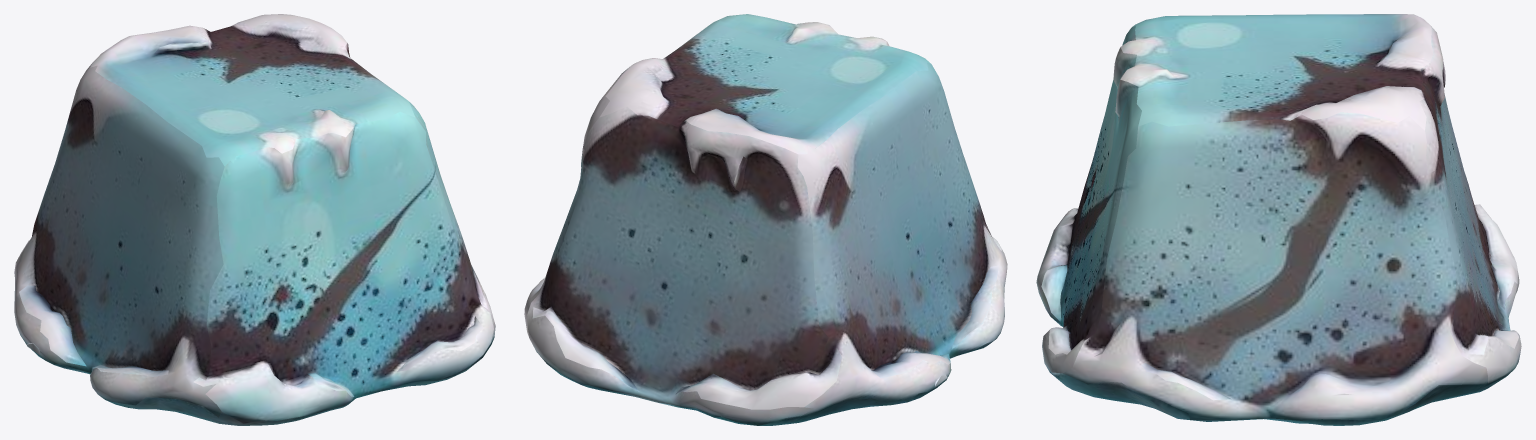
Rendered from comet_ice.glb.
3 renders of one model, left to right at view 1: azimuth 30°, elevation 25°; view 2: azimuth 150°, elevation 25°; view 3: azimuth 270°, elevation 25°, orthographic. The views are drawn at different scales.
Visible parts, largest first — view 1: comet_ice; view 2: comet_ice; view 3: comet_ice.
Boxes of the visible parts, <box> form: comet_ice: <box>14,14,495,425</box>; comet_ice: <box>524,14,1007,425</box>; comet_ice: <box>1036,14,1521,425</box>.
Size of the model in its own units: 0.9988 by 0.6308 by 1.
1 material, 1 textured.
